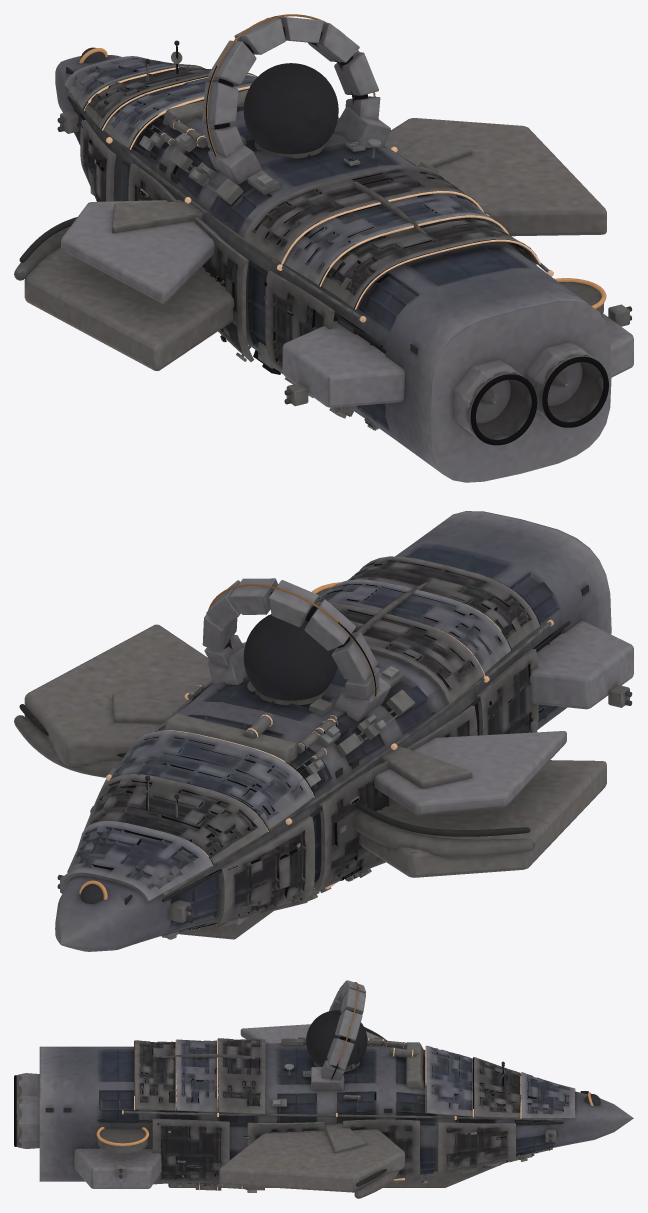
Rendered from gravity_fang_hero.glb.
3 views of the same model, one above another, from view 1: azimuth 30°, elevation 25°; view 2: azimuth 150°, elevation 25°; view 3: azimuth 270°, elevation 25° (orthographic). The views are drawn at different scales.
Visible parts, largest first — view 1: HullBaked; view 2: HullBaked; view 3: HullBaked.
Part boxes in pixels (<box>): HullBaked: <box>14,14,633,482</box>; HullBaked: <box>14,511,633,951</box>; HullBaked: <box>14,980,633,1198</box>.
Bounding box in the file's own units: 19.52 × 10.84 × 31.29.
1 material, 1 textured.
